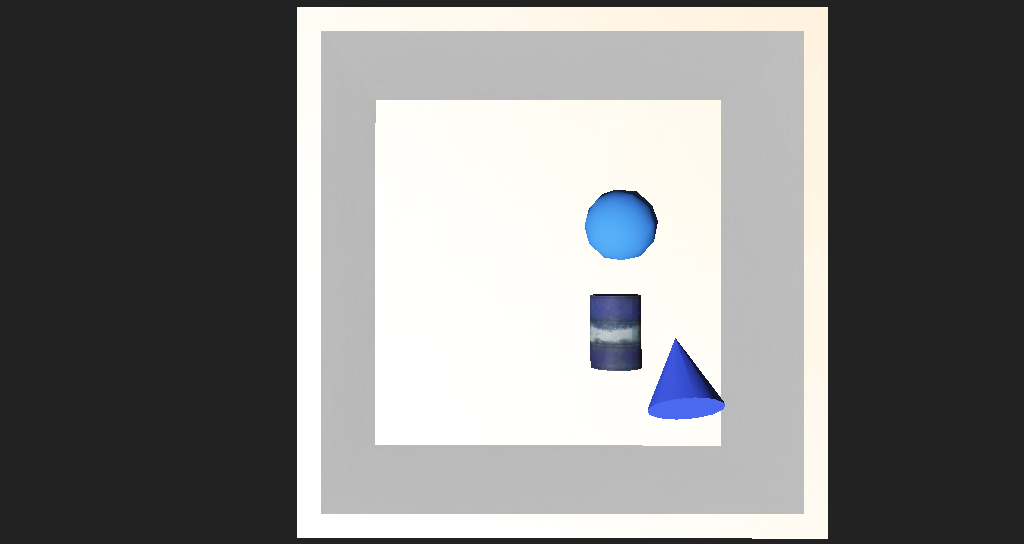cone: (542, 282, 589, 329)
cylinder: (583, 298, 657, 370)
sphere: (532, 215, 600, 262)
